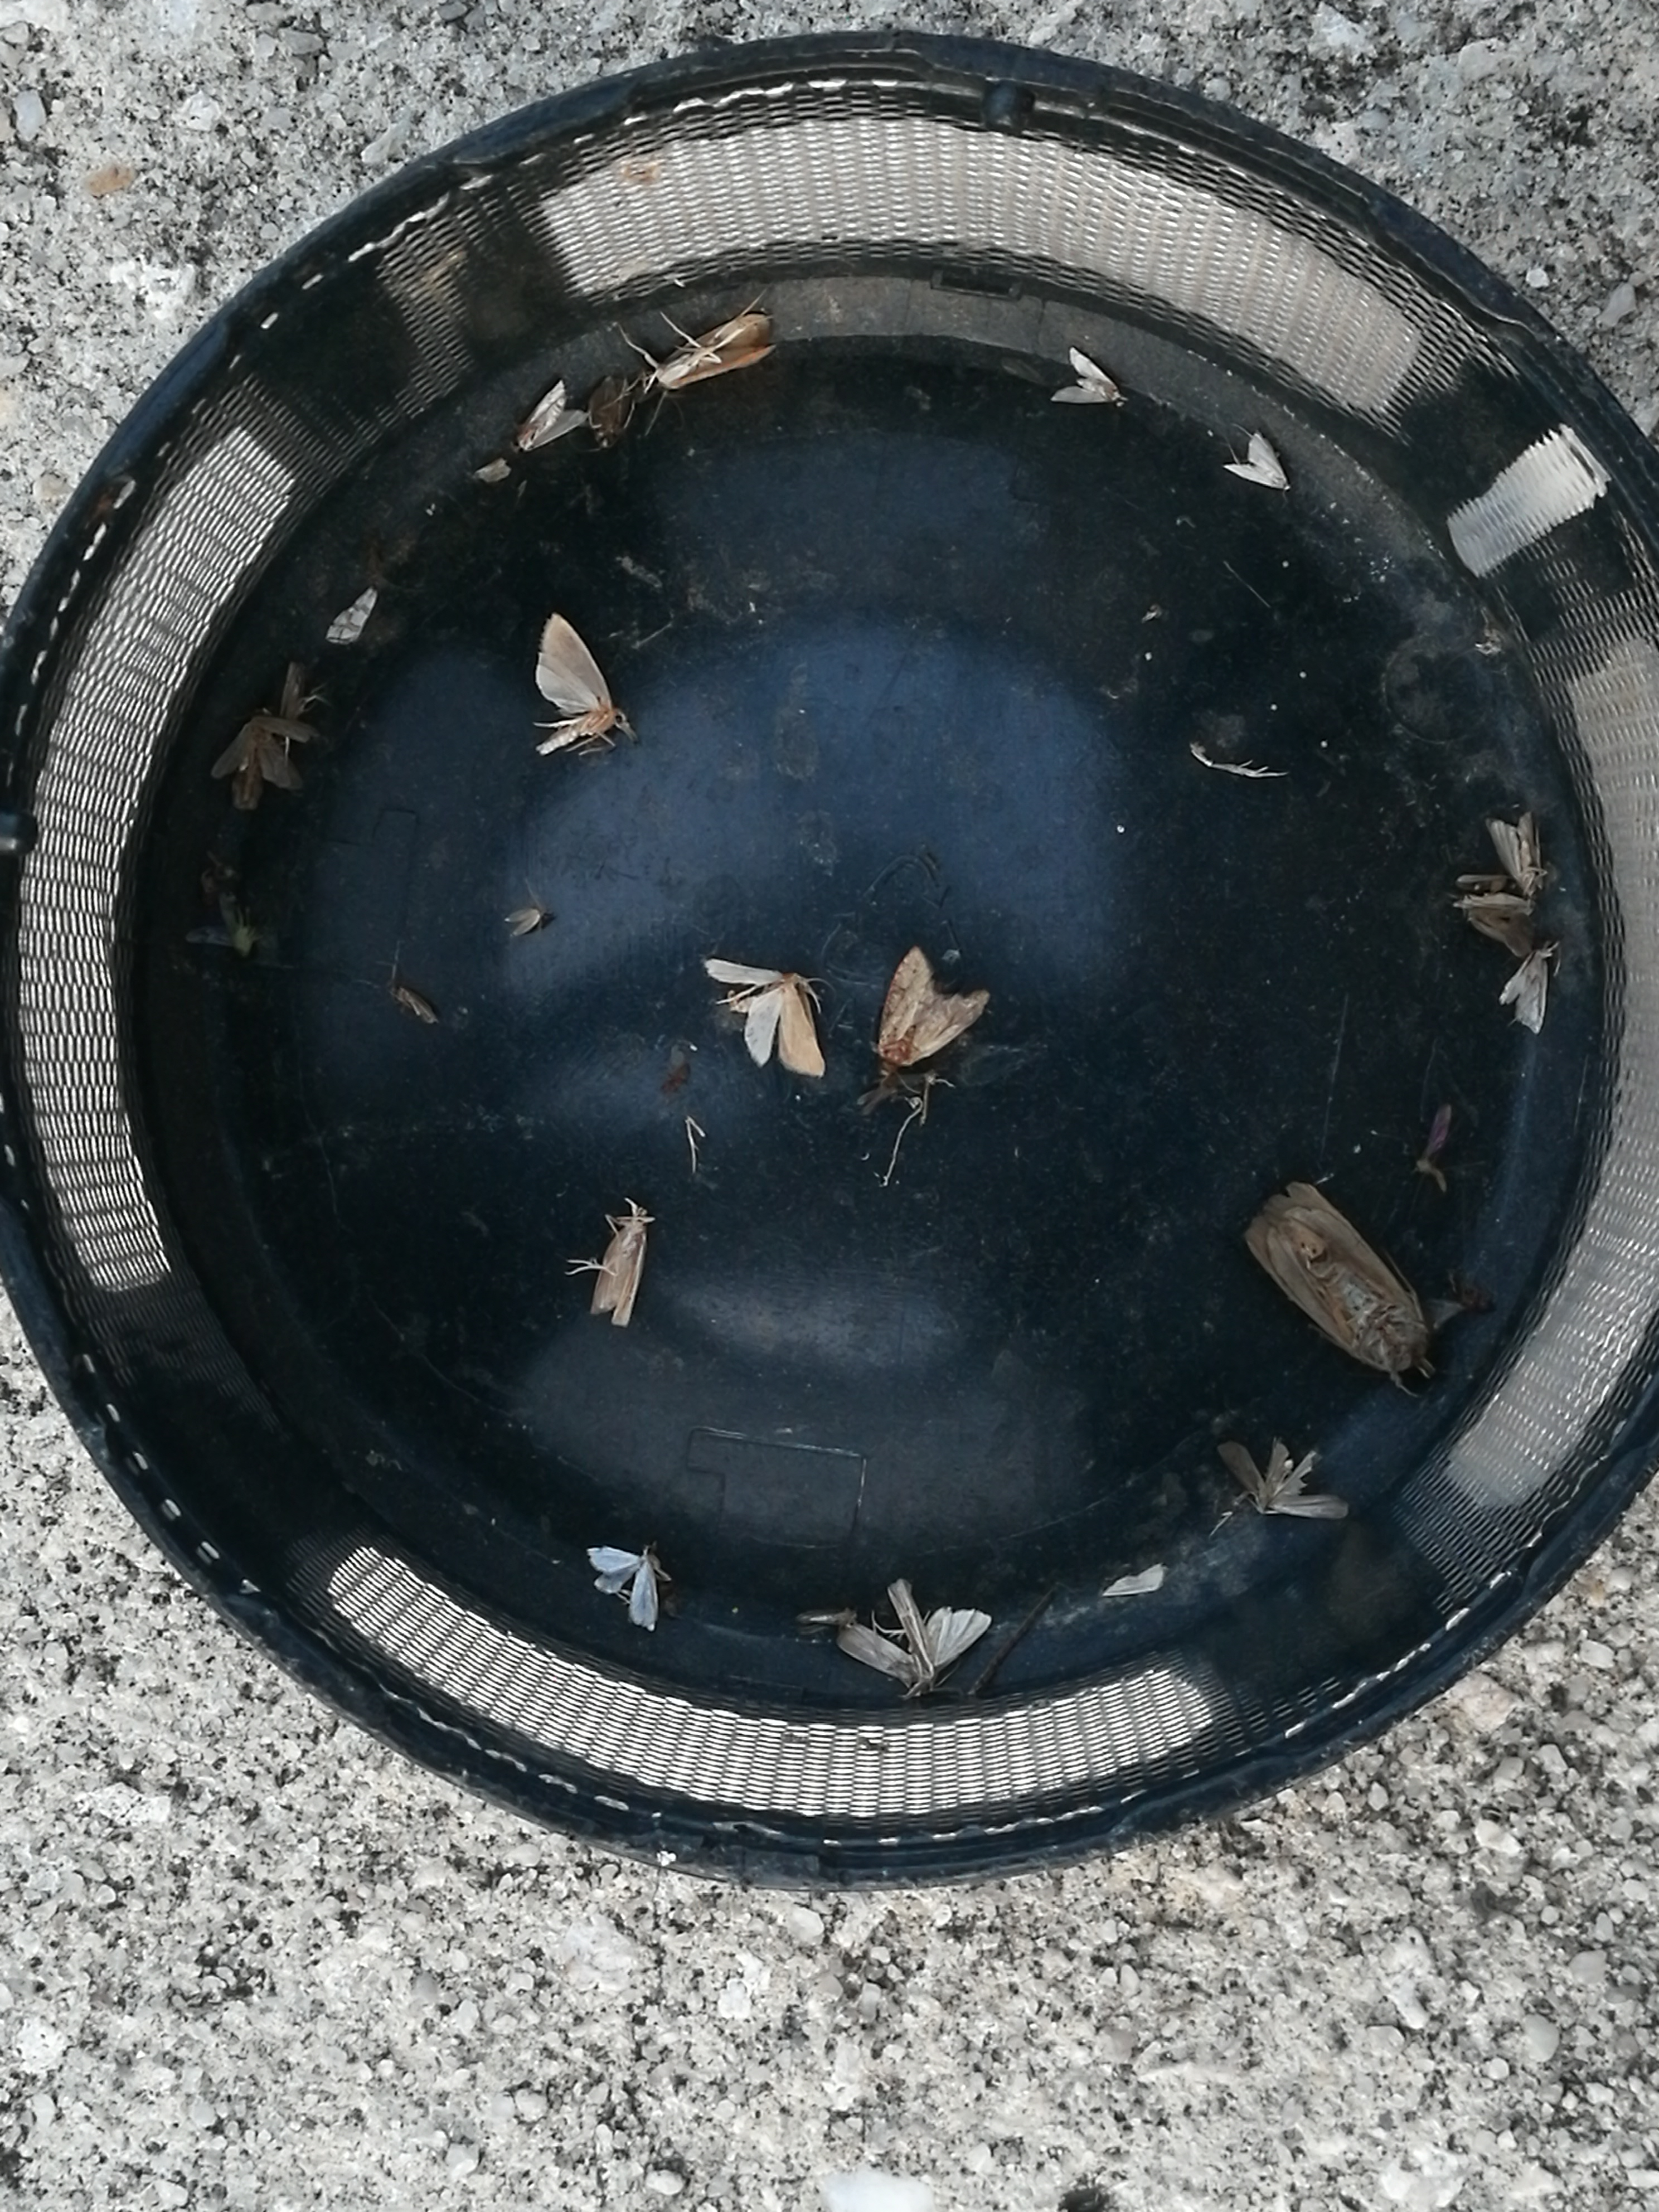mosquito: (657, 310, 775, 385), (589, 1219, 643, 1327)
moth: (1248, 1184, 1424, 1374), (843, 1581, 992, 1681), (875, 948, 988, 1076), (706, 963, 826, 1071), (537, 618, 629, 758), (1211, 1439, 1347, 1519), (213, 718, 321, 786), (587, 1550, 659, 1634), (516, 380, 584, 451), (1493, 812, 1541, 897), (1504, 946, 1549, 1029), (1051, 348, 1121, 401), (1223, 437, 1288, 488)
